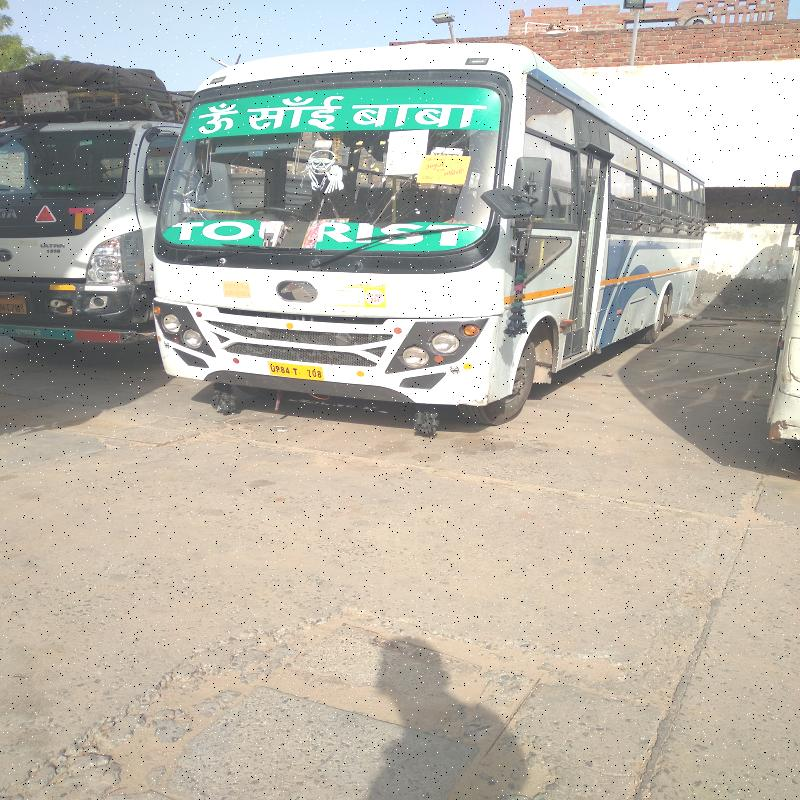bus: (160, 58, 699, 429), (1, 120, 158, 316)
